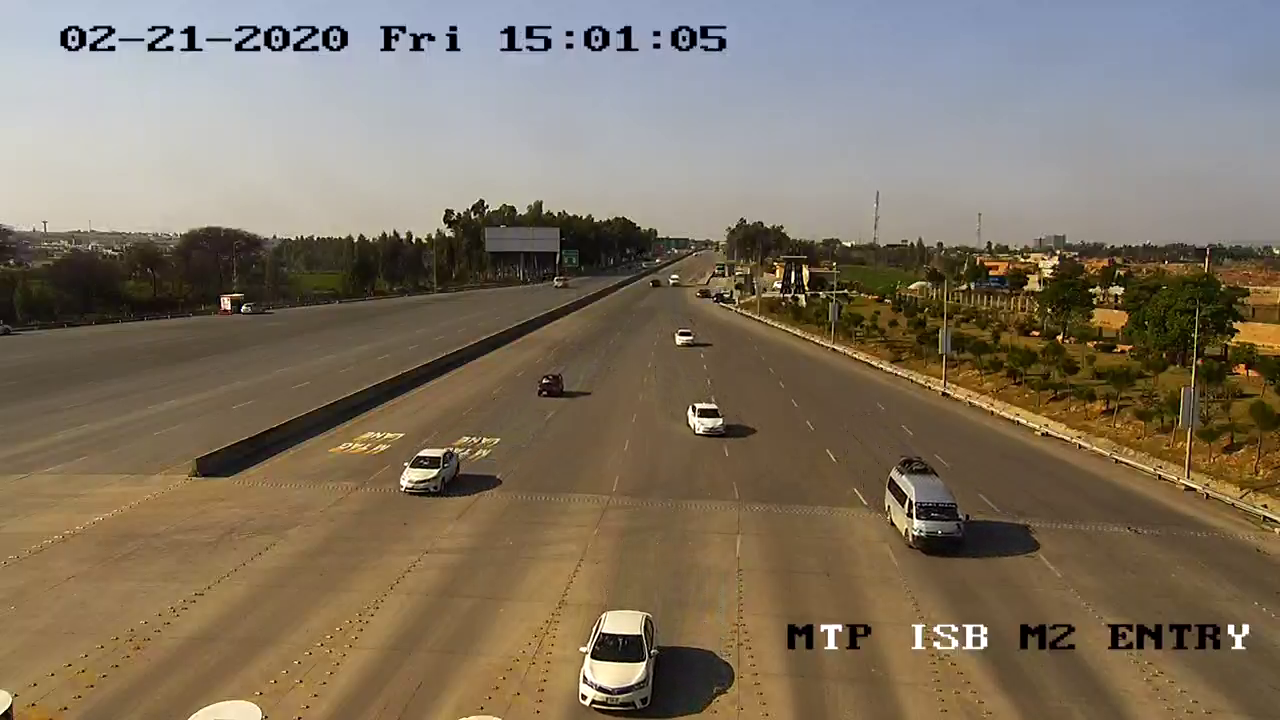f1: (568, 595, 671, 720), (389, 434, 469, 503), (674, 389, 735, 446)
f3: (868, 448, 979, 564)
